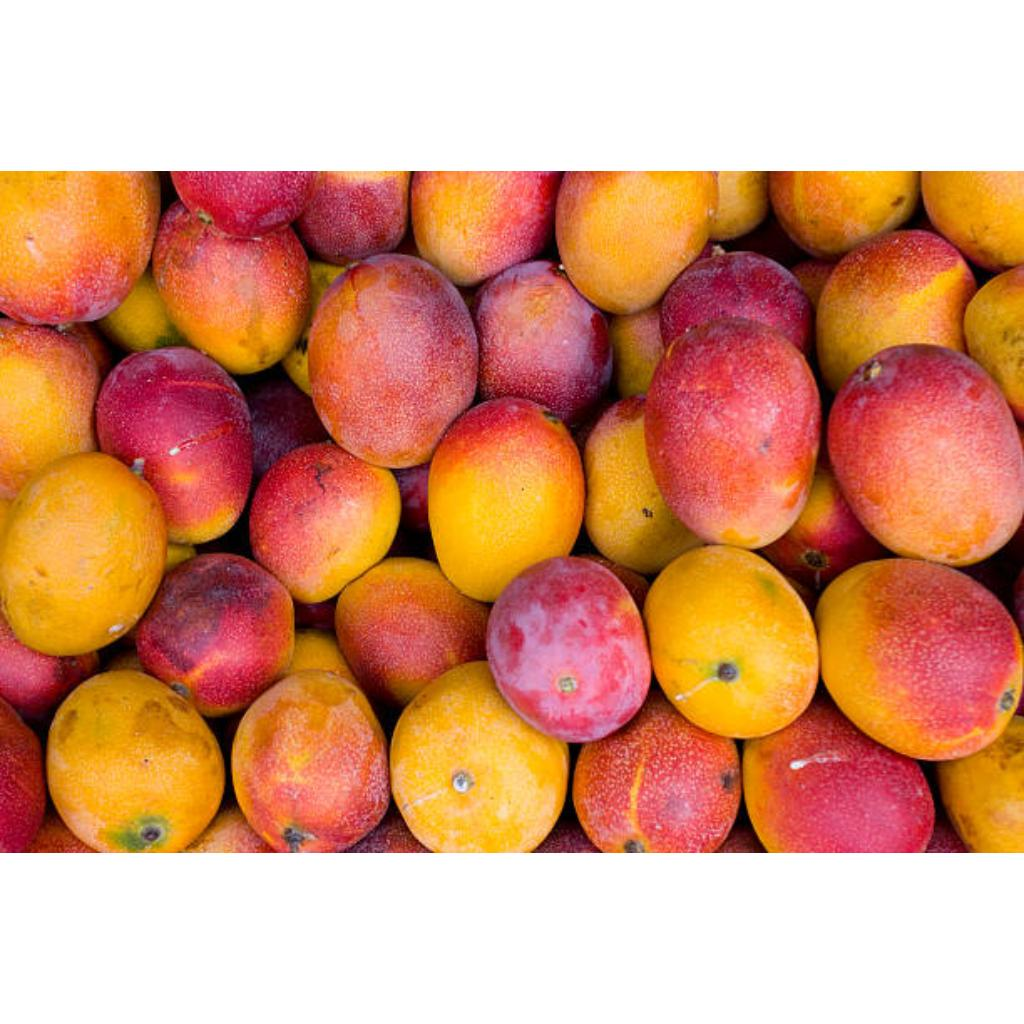mango: (828, 345, 1024, 566), (816, 559, 1022, 761), (644, 319, 820, 548), (308, 253, 478, 468), (0, 453, 166, 656), (644, 547, 818, 739), (394, 663, 568, 853), (46, 671, 224, 853), (428, 397, 584, 602), (96, 349, 254, 544), (486, 559, 652, 743), (744, 697, 934, 853), (232, 671, 386, 853), (574, 691, 742, 853), (152, 201, 306, 374), (816, 229, 978, 390), (136, 553, 294, 716), (0, 171, 160, 325), (250, 443, 400, 604), (334, 557, 490, 706), (556, 171, 718, 314), (474, 263, 612, 424), (584, 395, 704, 574), (0, 319, 100, 498), (410, 171, 561, 284), (660, 251, 812, 354), (770, 171, 920, 257), (296, 171, 409, 264), (922, 171, 1024, 272), (170, 171, 315, 237)
